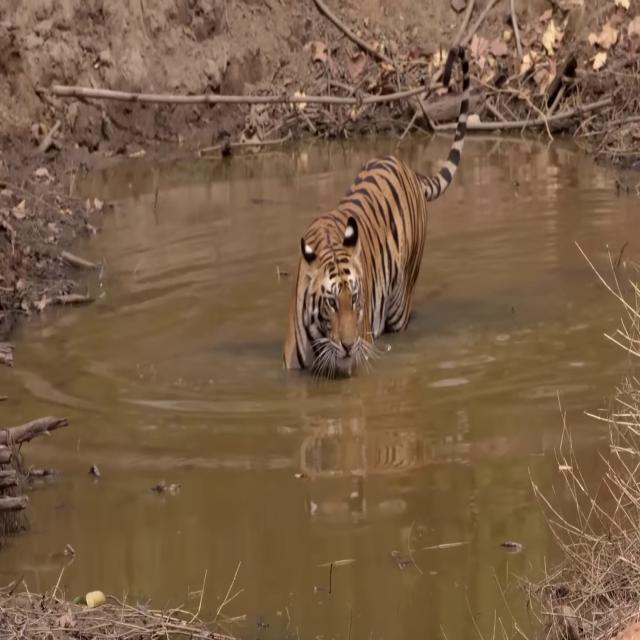tiger: (281, 43, 470, 377)
